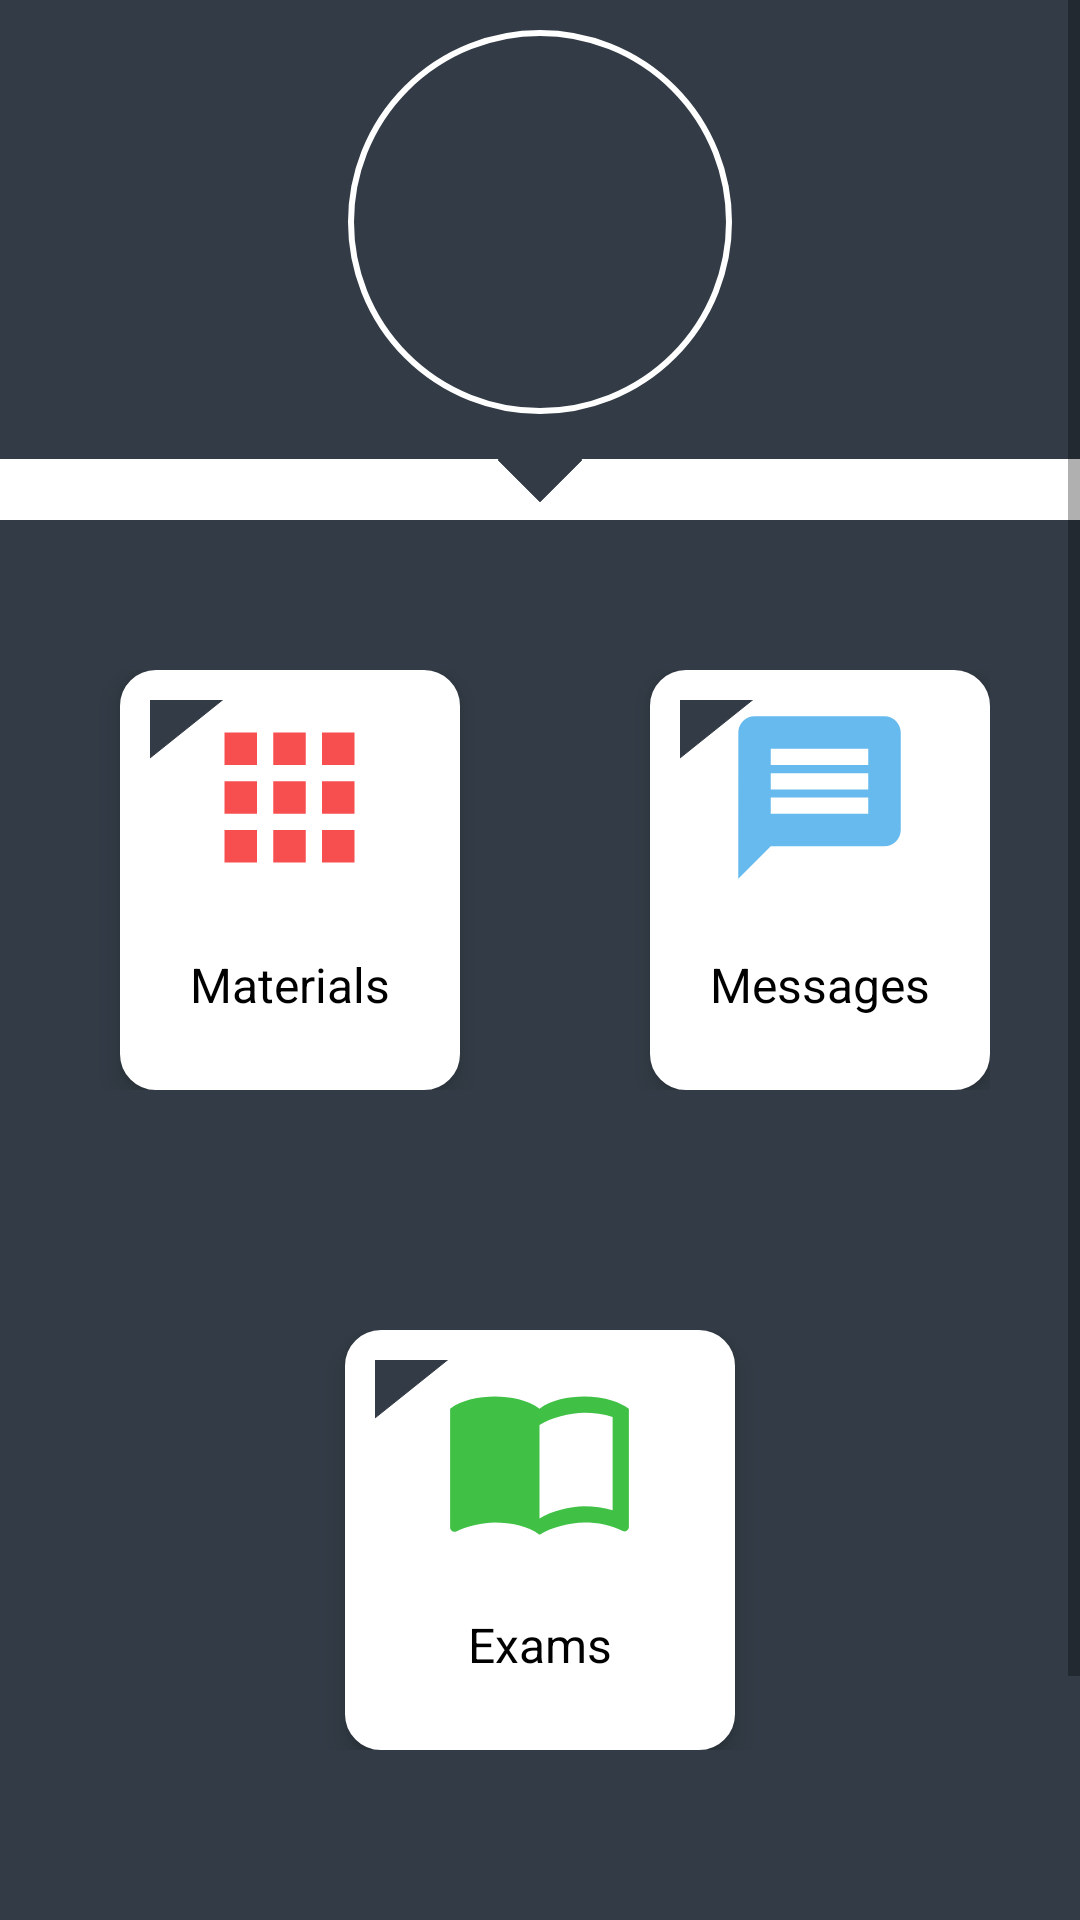

Icon click points for this 1080x1920 phone screenshot, format (x,y):
apps: (289,797)
import contacts: (539,1465)
